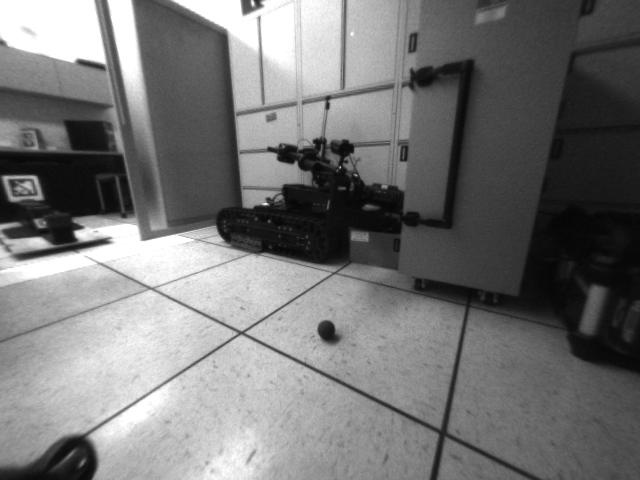dogtoy: (311, 315, 345, 345)
